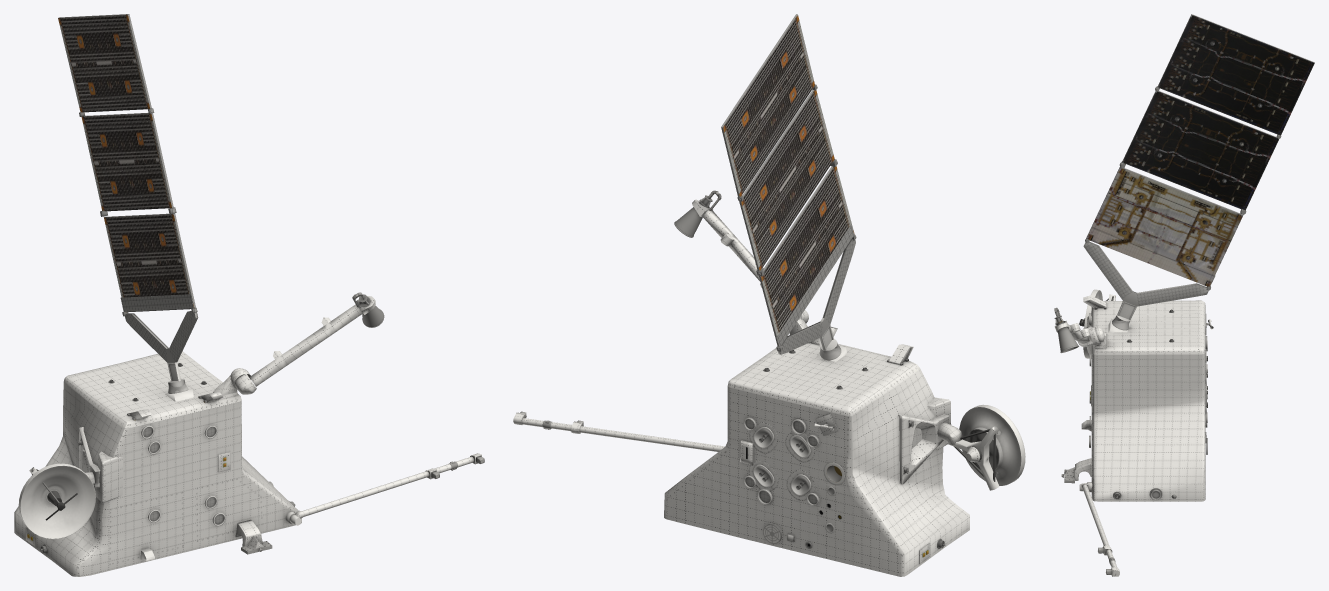
File: sc_bepicolombo.glb
3 views of the same model, side by side, from view 1: azimuth 30°, elevation 25°; view 2: azimuth 150°, elevation 25°; view 3: azimuth 270°, elevation 25° (orthographic). The views are drawn at different scales.
Visible parts, largest first — view 1: bepi_Material__2; view 2: bepi_Material__2; view 3: bepi_Material__2.
Boxes of the visible parts, bbox=[...] form: bepi_Material__2: bbox=[14, 14, 484, 576]; bepi_Material__2: bbox=[513, 14, 1025, 576]; bepi_Material__2: bbox=[1054, 14, 1314, 576].
Size of the model in its own units: 1.41 by 1.45 by 0.7704.
1 material, 1 textured.
